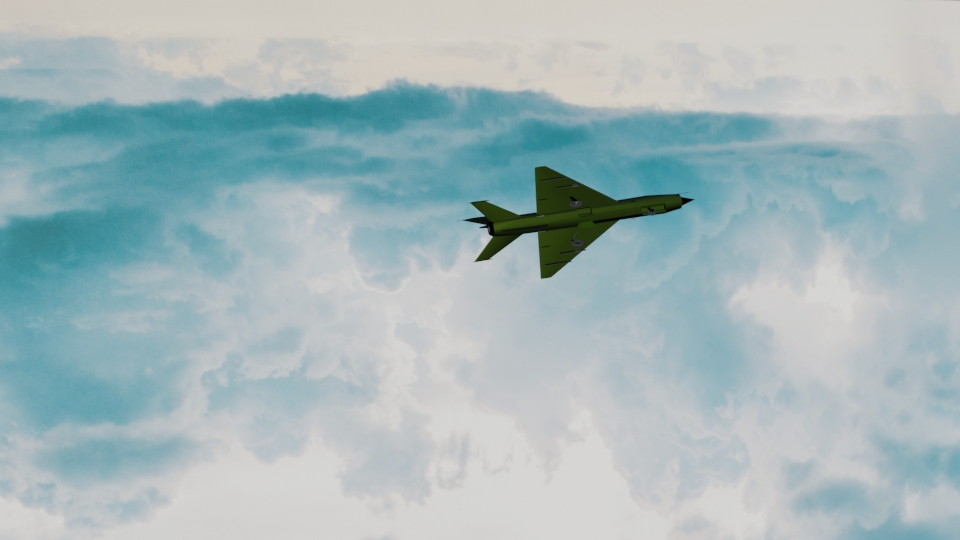plane: (466, 163, 699, 281)
